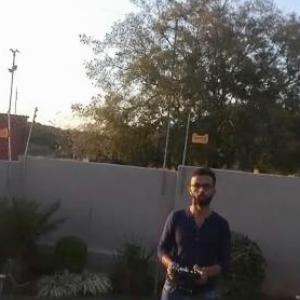follow: (145, 165, 235, 299)
